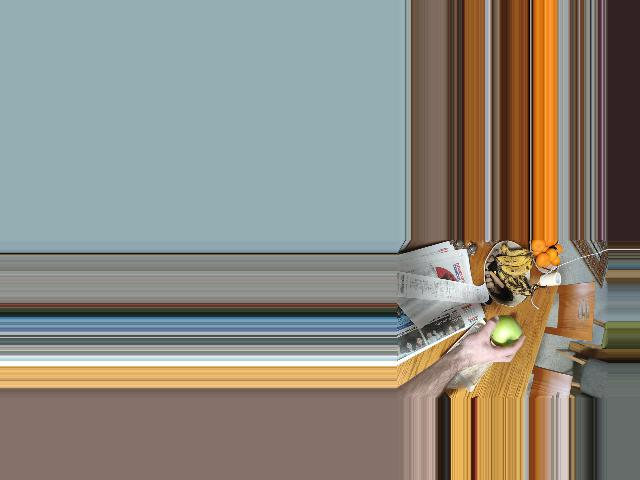apple: (488, 318, 523, 346)
